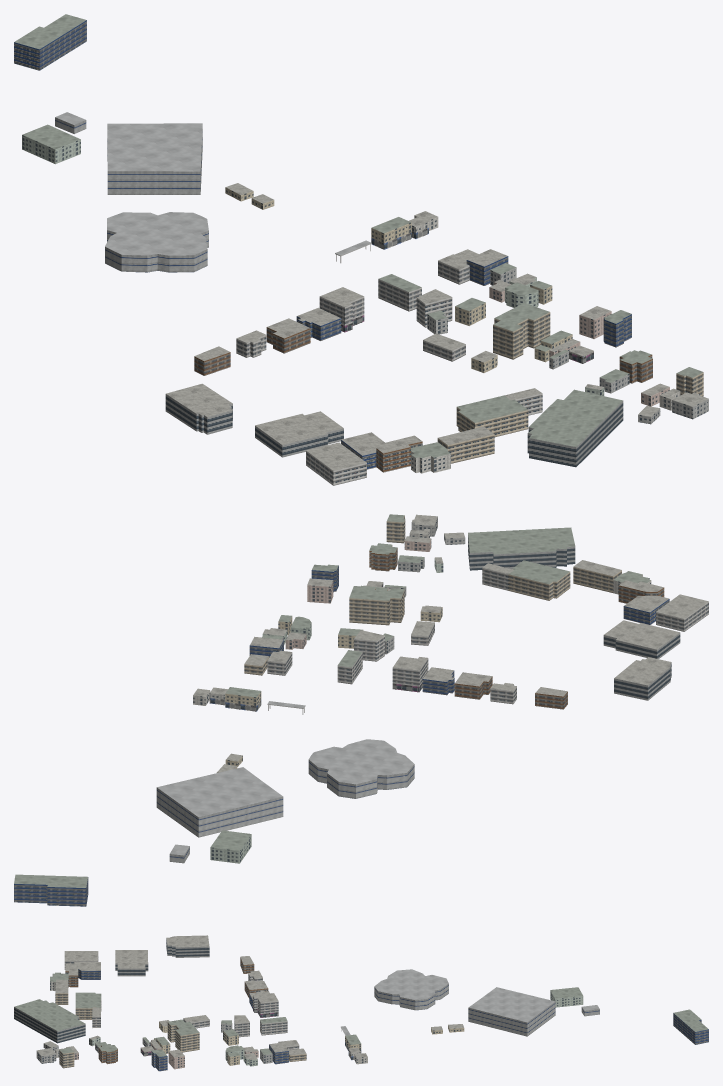
File: ArahaTown_Block_W03072_S03072.gltf
3 renders of one model, top to bottom at view 1: azimuth 30°, elevation 25°; view 2: azimuth 150°, elevation 25°; view 3: azimuth 270°, elevation 25°, orthographic. The views are drawn at different scales.
Visible parts, largest first — view 1: ArahaTown_Block_W03072_S03072; view 2: ArahaTown_Block_W03072_S03072; view 3: ArahaTown_Block_W03072_S03072.
Part boxes in pixels (box(x1,y1,x2,y2)): ArahaTown_Block_W03072_S03072: box(14, 14, 708, 485); ArahaTown_Block_W03072_S03072: box(14, 514, 708, 906); ArahaTown_Block_W03072_S03072: box(14, 935, 708, 1071).
Size of the model in its own units: 312 by 23.08 by 731.
Materials: 17 (16 with a texture image).
